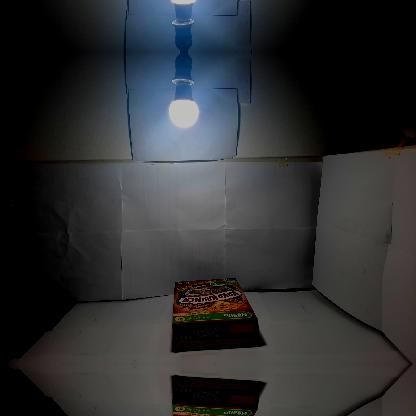Koko-Krunch: (172, 277, 260, 351), (172, 377, 260, 415)
